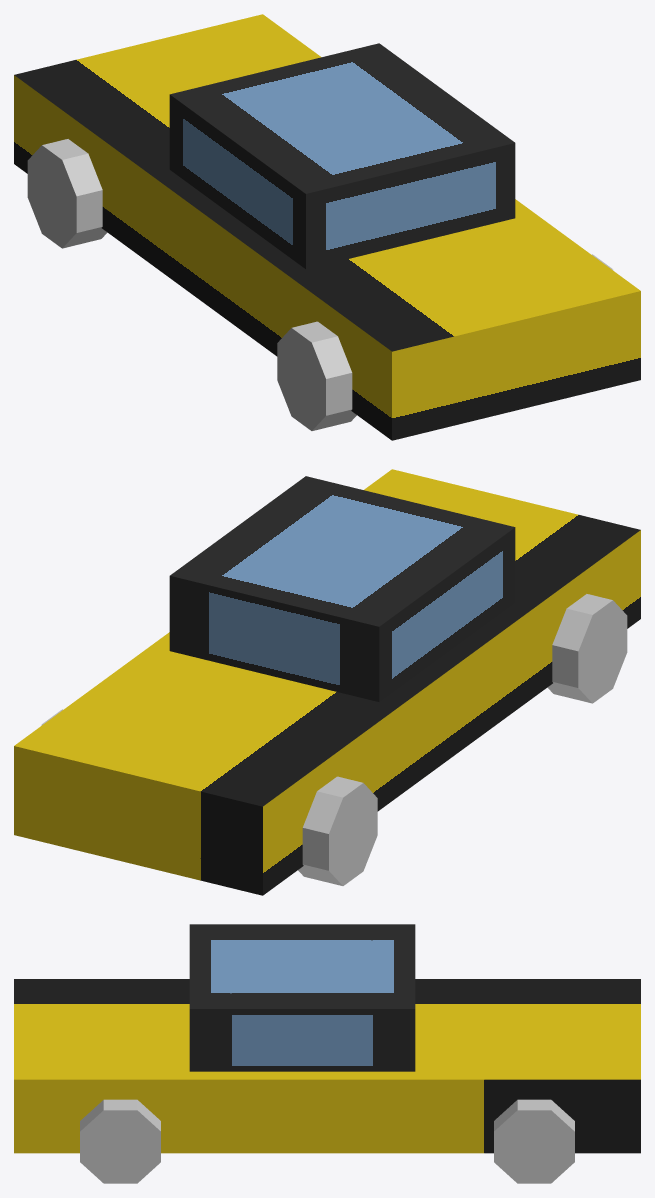
3 views of the same model, one above another, from view 1: azimuth 30°, elevation 25°; view 2: azimuth 150°, elevation 25°; view 3: azimuth 270°, elevation 25° (orthographic). The views are drawn at different scales.
Parts seen in each view (by area): view 1: body, cabin, wheel_rl, wheel_fl; view 2: body, cabin, wheel_fl, wheel_rl; view 3: body, cabin, wheel_fr, wheel_rr.
Boxes of the visible parts, x1,y1,x2,y2 form: body: (14, 14, 640, 440); cabin: (169, 43, 515, 269); wheel_rl: (277, 321, 356, 430); wheel_fl: (27, 139, 107, 248); body: (14, 469, 640, 895); cabin: (169, 476, 515, 701); wheel_fl: (298, 776, 377, 885); wheel_rl: (547, 594, 627, 703); body: (14, 979, 640, 1153); cabin: (189, 924, 415, 1071); wheel_fr: (494, 1099, 574, 1183); wheel_rr: (80, 1099, 160, 1183).
Size of the model in its own units: 230 by 137 by 500.
